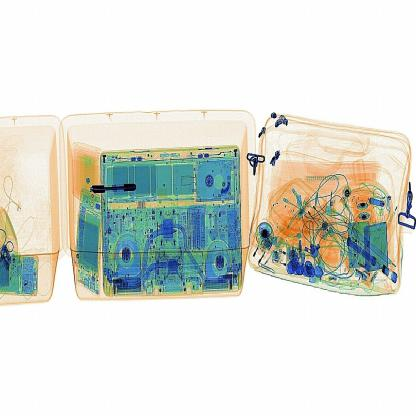knife: (86, 178, 138, 197)
